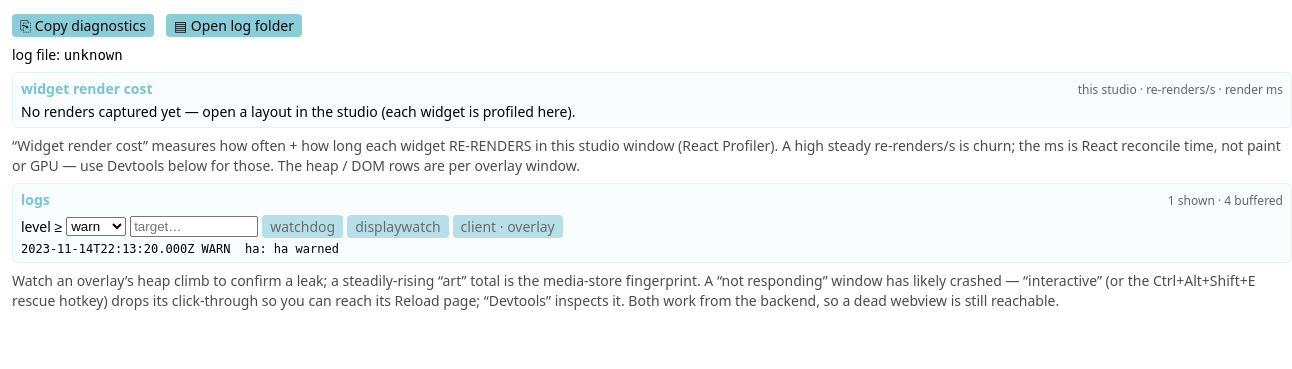
Test: DiagnosticsPanel logs pane › quick chips narrow to their target (+ component) and toggle off again
Expected: the text "2023-11-14T22:13:20.000Z WARN ha: ha warned" is shown, x1=21 y1=242 x2=339 y2=256
Select "trace" in the dropdown named "Minimum log level" at (96, 227), box x1=66 y1=217 x2=126 y2=236
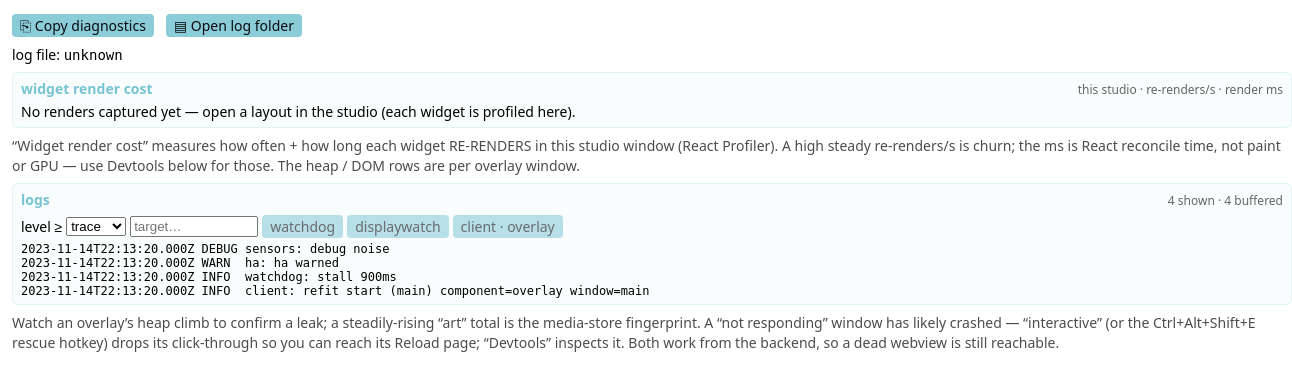
Click the button "watchdog".
click(303, 227)  # box x1=262 y1=215 x2=343 y2=238
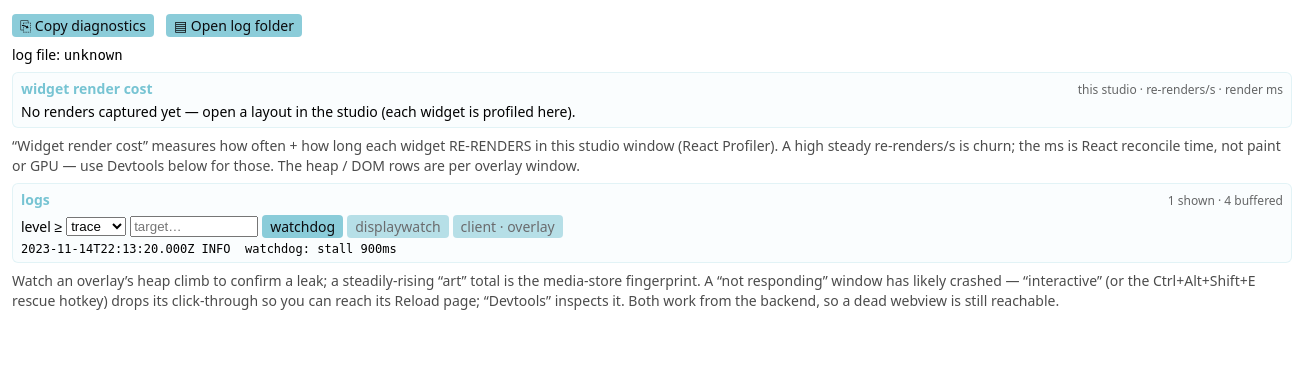
Expected: the text "2023-11-14T22:13:20.000Z INFO watchdog: stall 900ms" is shown, x1=21 y1=242 x2=397 y2=256
Expected: the text "ha warned" is gone
Note: The client chip requires the overlay component.
Click the button "client · overlay".
click(508, 227)  # box x1=453 y1=215 x2=563 y2=238
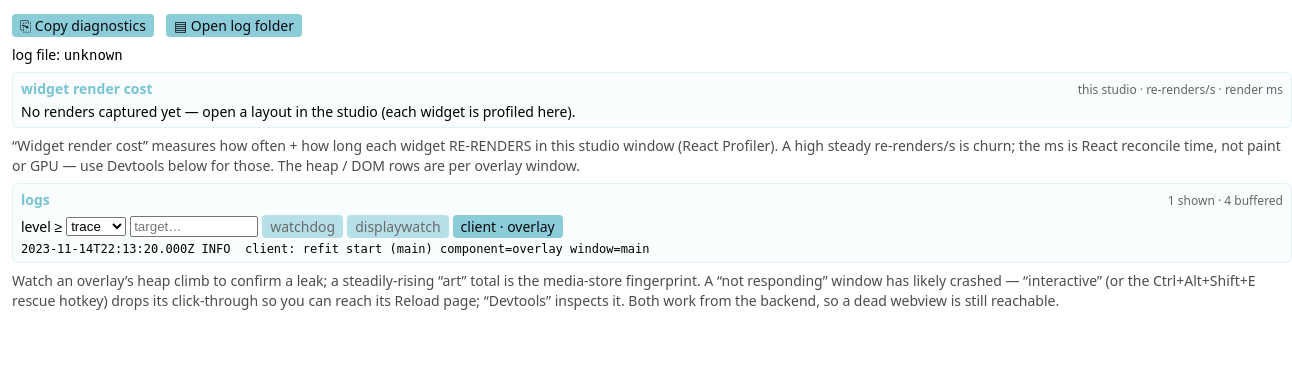
Expected: the text "refit start" is shown, x1=21 y1=242 x2=650 y2=256
Expected: the text "stall 900ms" is gone
Note: Clicking the active chip clears it → everything at trace+ is back.
Click the button "client · overlay".
click(508, 227)  # box x1=453 y1=215 x2=563 y2=238
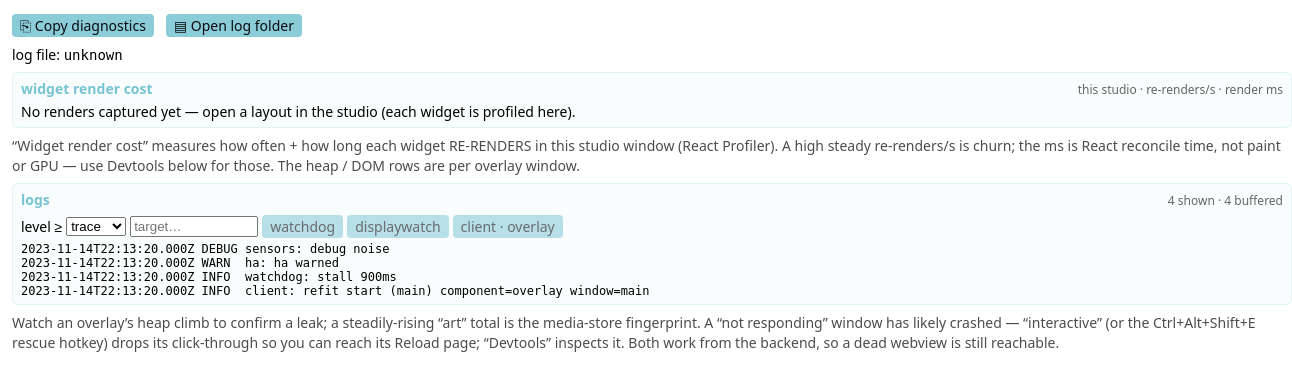
Expected: the text "2023-11-14T22:13:20.000Z INFO watchdog: stall 900ms" is shown, x1=21 y1=270 x2=397 y2=284
Expected: the text "2023-11-14T22:13:20.000Z WARN ha: ha warned" is shown, x1=21 y1=256 x2=339 y2=270
